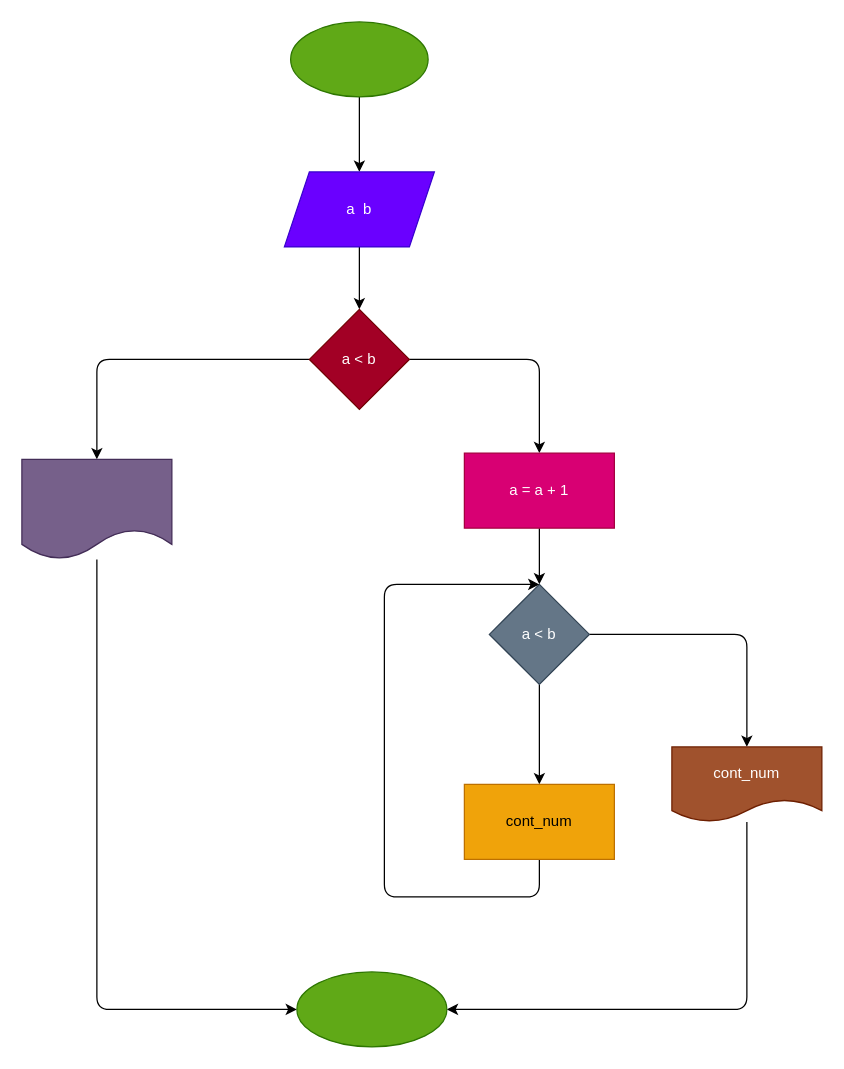
The diagram is 844 pixels wide and 1069 high, and some of its shapes have lost their labels. Here are the shapes that lost their labels. From the top down, the box of each, then its label:
(289, 21, 428, 97): INICIO
(21, 458, 172, 559): a debe ser menor que b
(296, 971, 447, 1047): FIN
